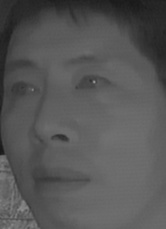eye: (73, 73, 114, 95), (7, 78, 44, 100)
mouth: (27, 160, 95, 203)
